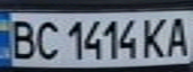1: (63, 17, 84, 61), (100, 17, 121, 60)
4: (118, 16, 142, 60), (81, 17, 103, 61)
A: (163, 12, 193, 59)
B: (3, 16, 39, 61)
C: (33, 17, 63, 61)
K: (139, 15, 172, 60)
